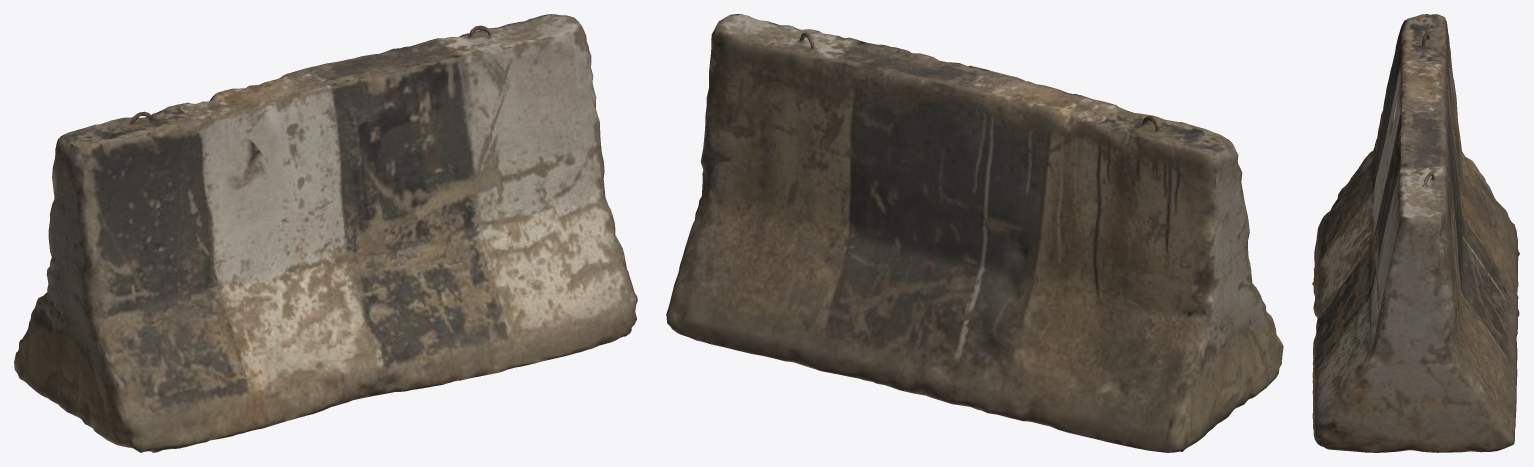
Rendered from barreira.glb.
3 views of the same model, side by side, from view 1: azimuth 30°, elevation 25°; view 2: azimuth 150°, elevation 25°; view 3: azimuth 270°, elevation 25° (orthographic). The views are drawn at different scales.
Visible parts, largest first — view 1: barreira; view 2: barreira; view 3: barreira.
Boxes of the visible parts, left/top/right/bottom form: barreira: left=14, top=14, right=637, bottom=452; barreira: left=666, top=14, right=1283, bottom=452; barreira: left=1312, top=14, right=1519, bottom=452.
Bounding box in the file's own units: 1.55 × 0.8309 × 0.6387.
Materials: 1 (1 with a texture image).
